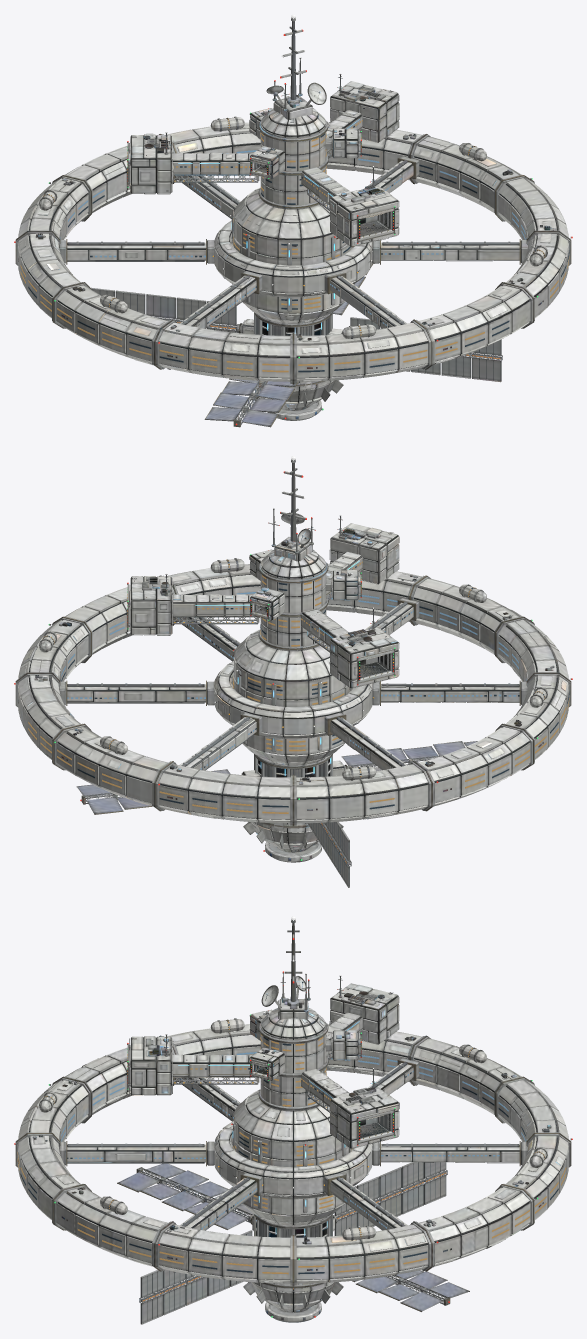
File: frontier_station.glb
3 views of the same model, one above another, from view 1: azimuth 30°, elevation 25°; view 2: azimuth 150°, elevation 25°; view 3: azimuth 270°, elevation 25° (orthographic).
Visible parts, largest first — view 1: Ring, Hull_2, Hull_1, Hull_0, Lights; view 2: Ring, Hull_2, Hull_1, Hull_0, Lights; view 3: Ring, Hull_2, Hull_1, Hull_0, Lights.
Part boxes in pixels (x1,y1,x2,y2): Ring: (14,116,572,384); Hull_2: (128,85,399,426); Hull_1: (90,17,502,427); Hull_0: (92,21,501,424); Lights: (127,14,500,425); Ring: (14,558,572,826); Hull_2: (77,527,477,861); Hull_1: (76,459,476,887); Hull_0: (84,463,443,886); Lights: (80,456,395,863); Ring: (14,1018,572,1286); Hull_2: (118,983,468,1321); Hull_1: (117,919,469,1324); Hull_0: (127,923,447,1323); Lights: (127,916,449,1317).
Bounding box in the file's own units: 220 × 173 × 220.
3 materials, 2 textured.
